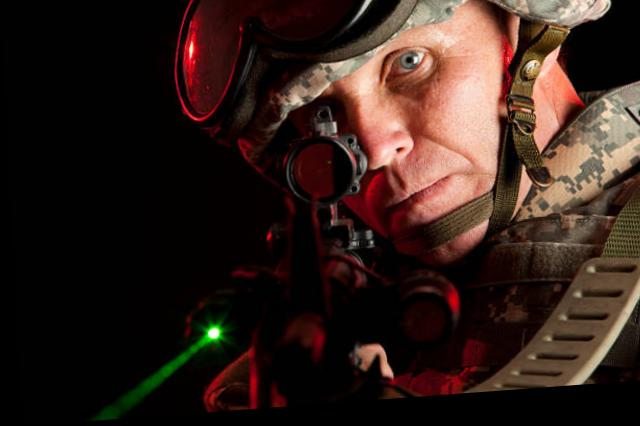other: (191, 0, 628, 401)
